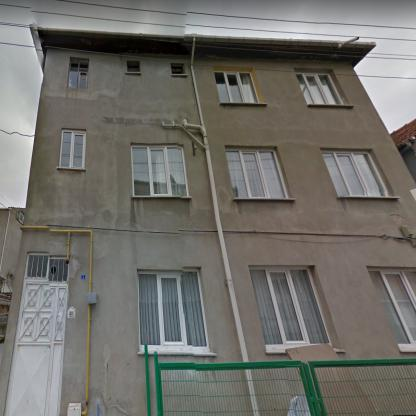door: (5, 283, 66, 415)
window: (250, 267, 330, 346), (138, 272, 207, 349), (369, 269, 416, 348), (322, 152, 388, 197), (226, 150, 286, 198), (132, 146, 187, 196), (214, 71, 259, 102), (296, 74, 342, 104), (26, 255, 68, 280), (60, 131, 85, 168), (68, 60, 88, 86), (128, 63, 140, 72), (171, 67, 183, 74), (19, 212, 24, 223)
